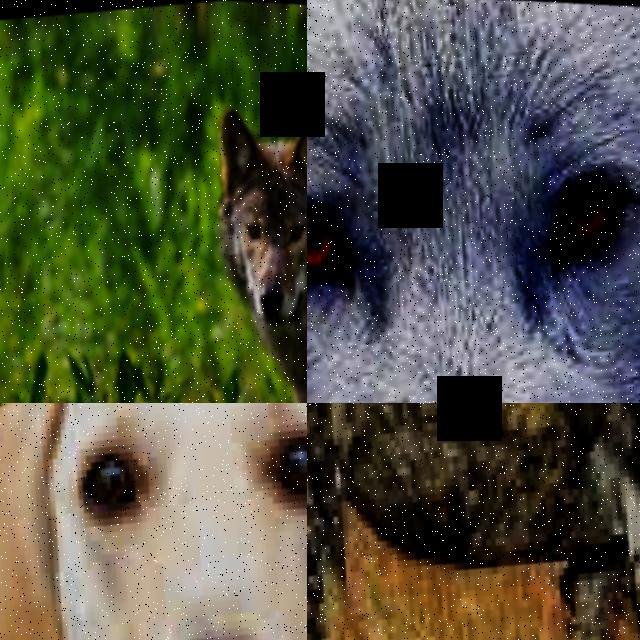dog: (307, 403, 640, 640), (0, 403, 307, 640)
wolf: (307, 0, 640, 403), (165, 52, 307, 403)
